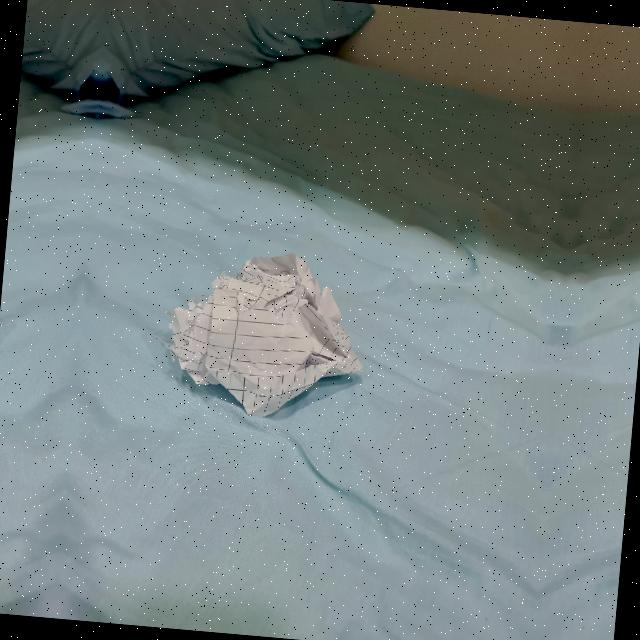paper: (168, 248, 367, 421)
